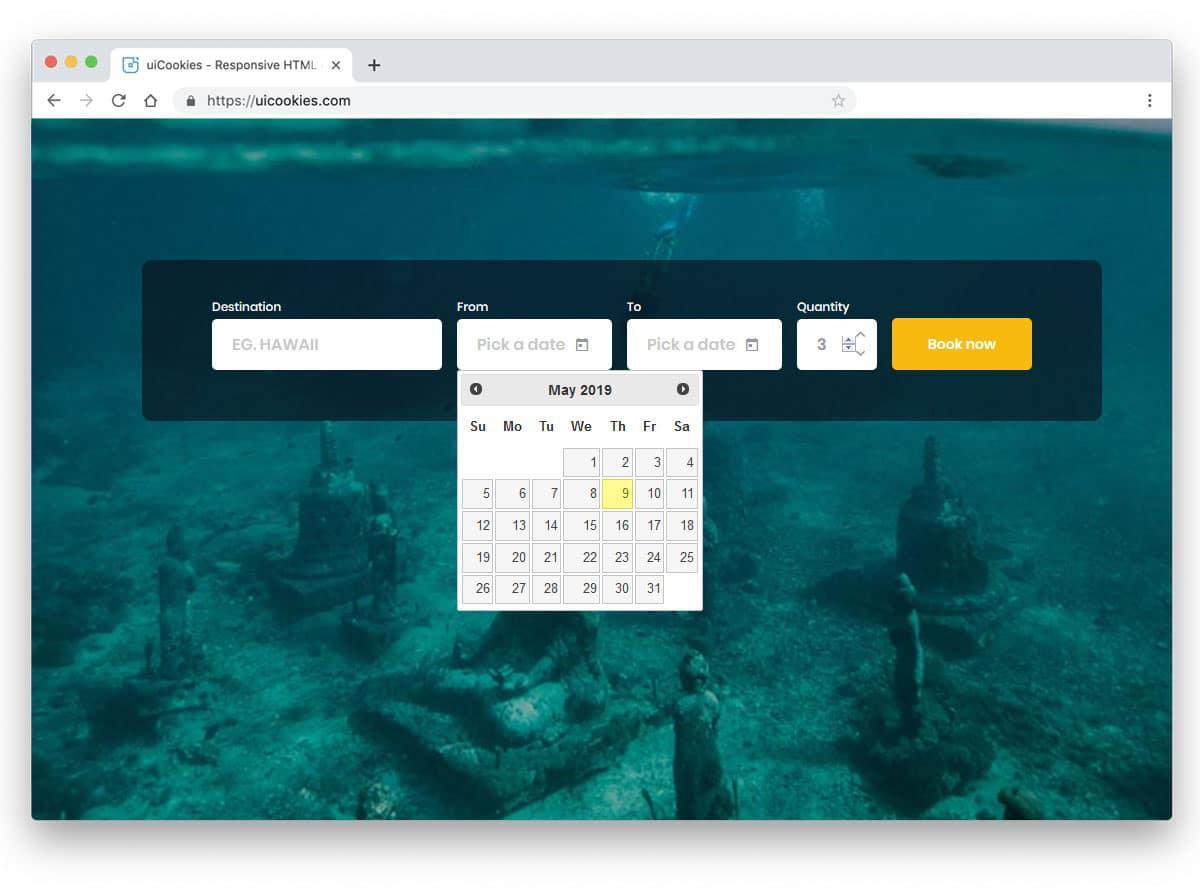button: (458, 321, 615, 373), (630, 319, 784, 372), (893, 319, 1033, 371)
icon: (673, 383, 693, 399), (469, 382, 488, 397)
input: (212, 319, 442, 372), (799, 322, 876, 369)
label: (543, 383, 624, 400), (207, 302, 285, 316), (799, 302, 853, 314), (456, 302, 497, 313), (625, 300, 649, 312)
